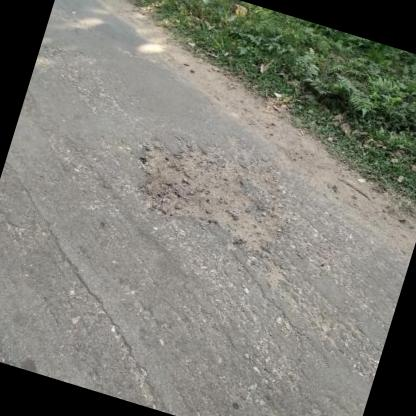pothole: (119, 122, 294, 255)
